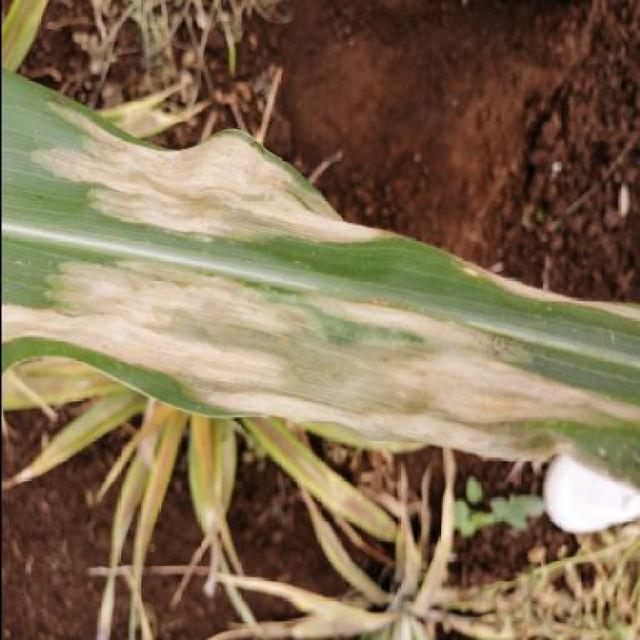Corn_Leaf_Blight: (0, 71, 640, 478)
